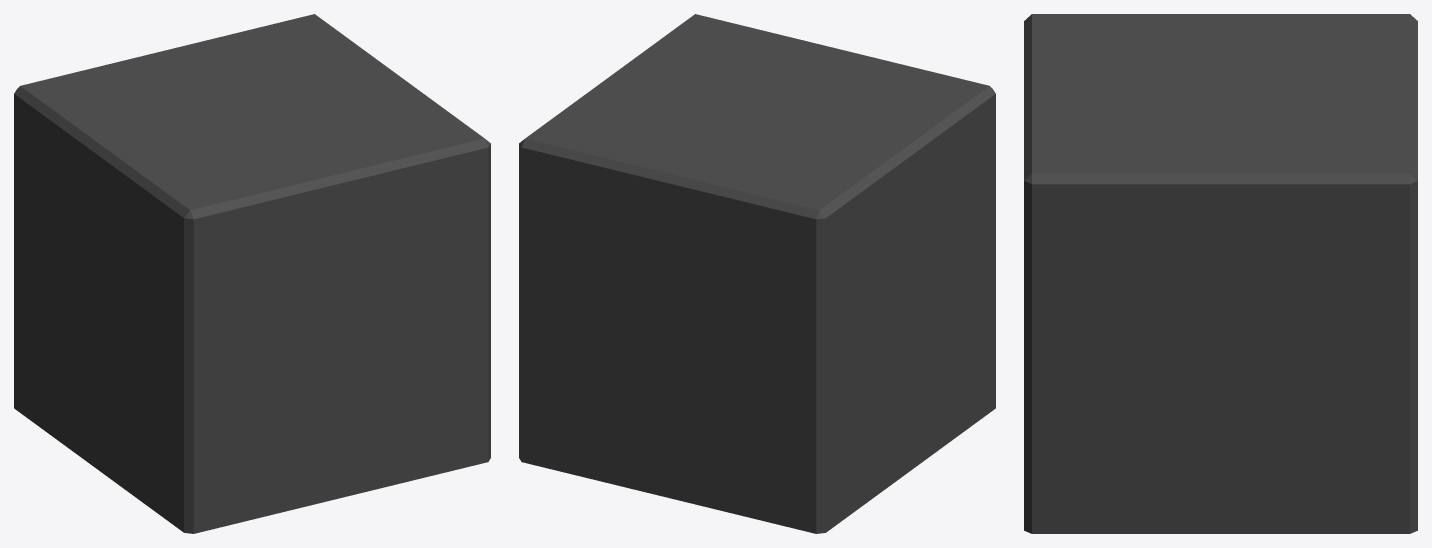
File: HJD_SFB_Platform_00.fbx
3 renders of one model, left to right at view 1: azimuth 30°, elevation 25°; view 2: azimuth 150°, elevation 25°; view 3: azimuth 270°, elevation 25°, orthographic. The views are drawn at different scales.
Parts seen in each view (by area): view 1: HJD_SFB_Asset; view 2: HJD_SFB_Asset; view 3: HJD_SFB_Asset.
Part boxes in pixels (x1,y1,x2,y2): HJD_SFB_Asset: [14, 14, 490, 533]; HJD_SFB_Asset: [519, 14, 995, 533]; HJD_SFB_Asset: [1024, 14, 1417, 533].
Bounding box in the file's own units: 100 × 100 × 100.
